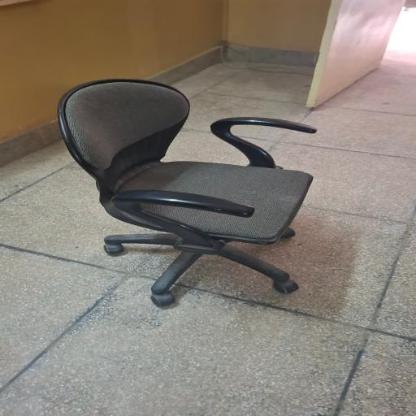chair: (50, 68, 319, 314)
